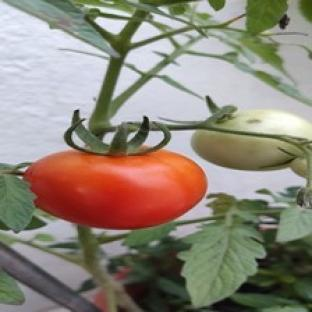Tomato: (24, 150, 207, 229), (191, 130, 300, 169), (290, 158, 307, 176)
